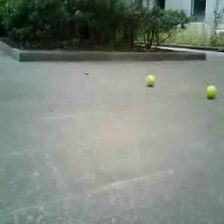tennis: (204, 85, 217, 97), (145, 73, 155, 85)
